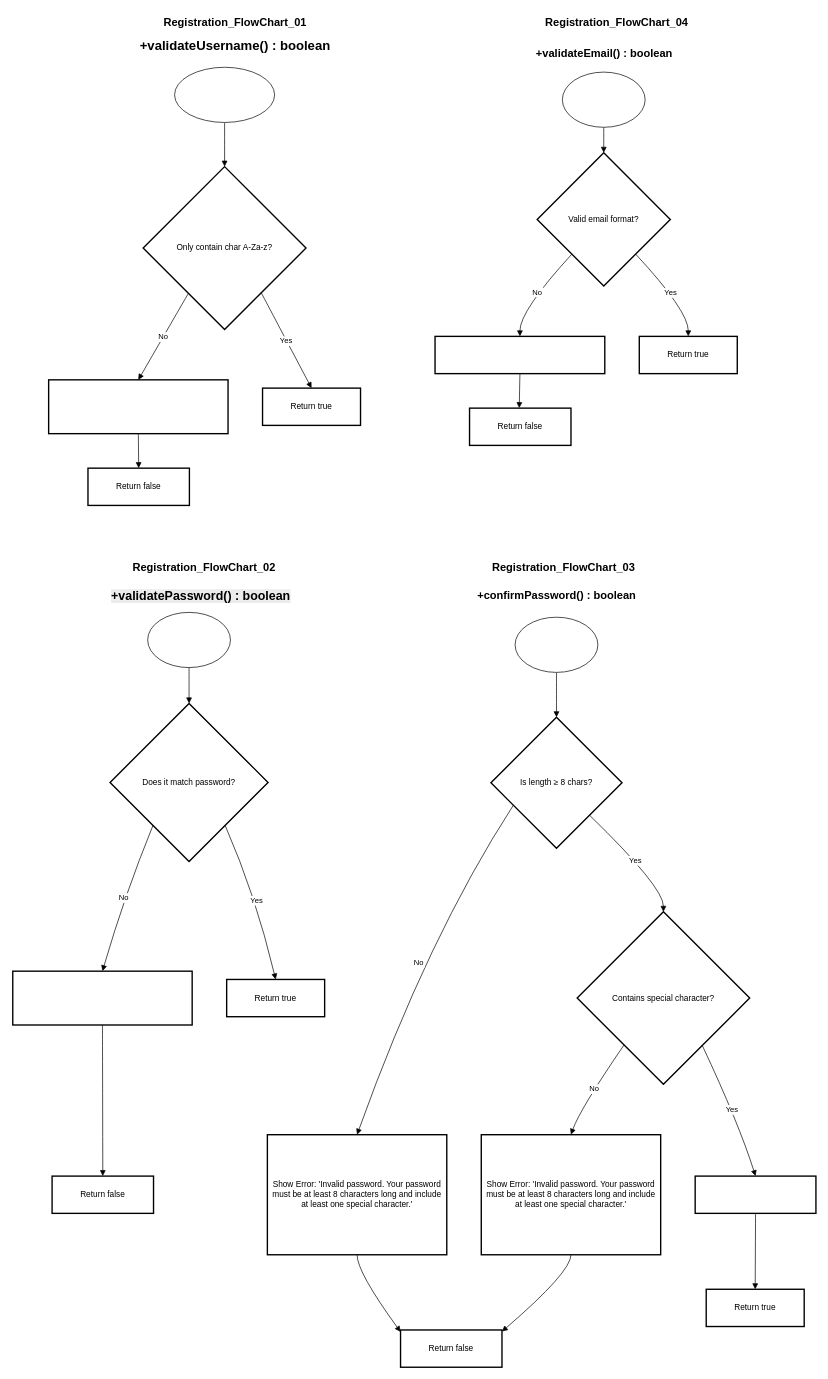
The diagram is 828 pixels wide and 1379 high, and some of its shapes have lost their labels. Each missing label, with the box of its shape:
Clear any errors: (694, 1175, 816, 1214)
Show Error: 'Invalid email': (434, 335, 605, 374)
Show Error: 'Invalid username': (48, 379, 228, 434)
Show Error: 'Passwords do not match': (12, 970, 193, 1025)
Start confirmPassword: (147, 612, 230, 668)
Start validate Username: (174, 67, 275, 122)
Start validateEmail: (562, 71, 645, 127)
Start validatePassword: (514, 617, 598, 672)
